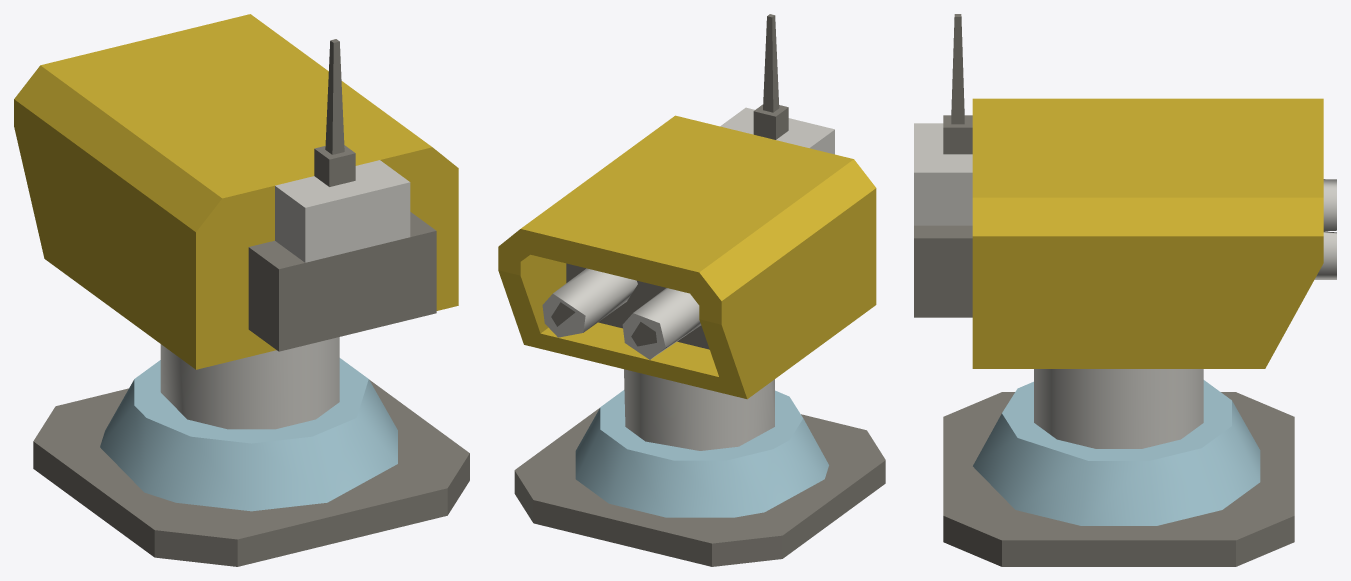
The model's file is cc0-turret-single-lod1.glb.
3 renders of one model, left to right at view 1: azimuth 30°, elevation 25°; view 2: azimuth 150°, elevation 25°; view 3: azimuth 270°, elevation 25°, orthographic. The views are drawn at different scales.
Parts seen in each view (by area): view 1: part_0; view 2: part_0; view 3: part_0.
Boxes of the visible parts, left/top/right/bottom form: part_0: left=14, top=14, right=469, bottom=566; part_0: left=498, top=14, right=885, bottom=566; part_0: left=914, top=14, right=1336, bottom=566.
Bounding box in the file's own units: 0.6 × 0.9 × 0.7224.
